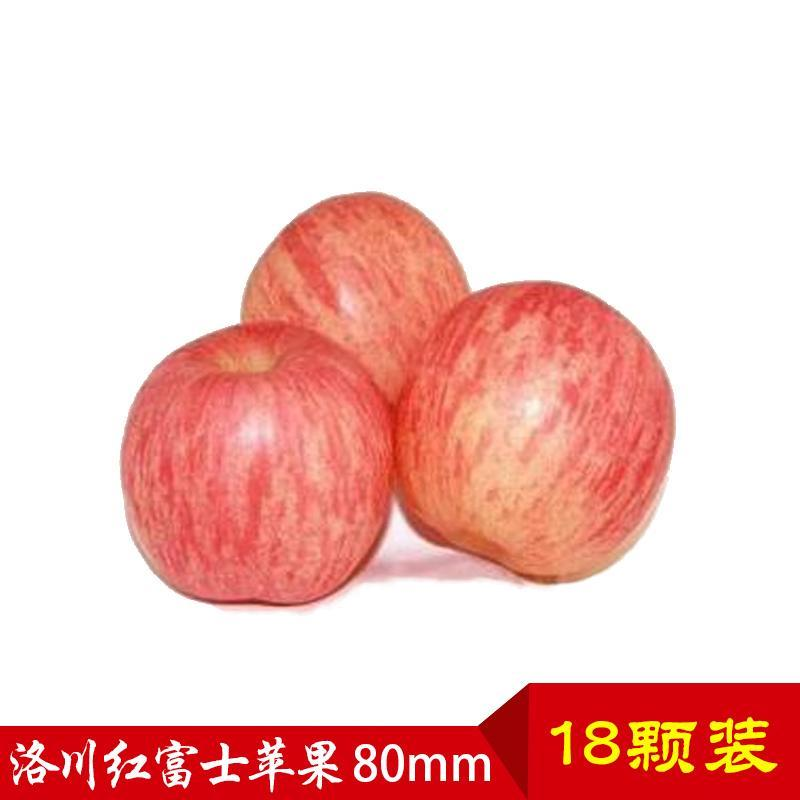apple: (395, 280, 676, 584), (118, 321, 402, 610), (235, 191, 469, 406)
